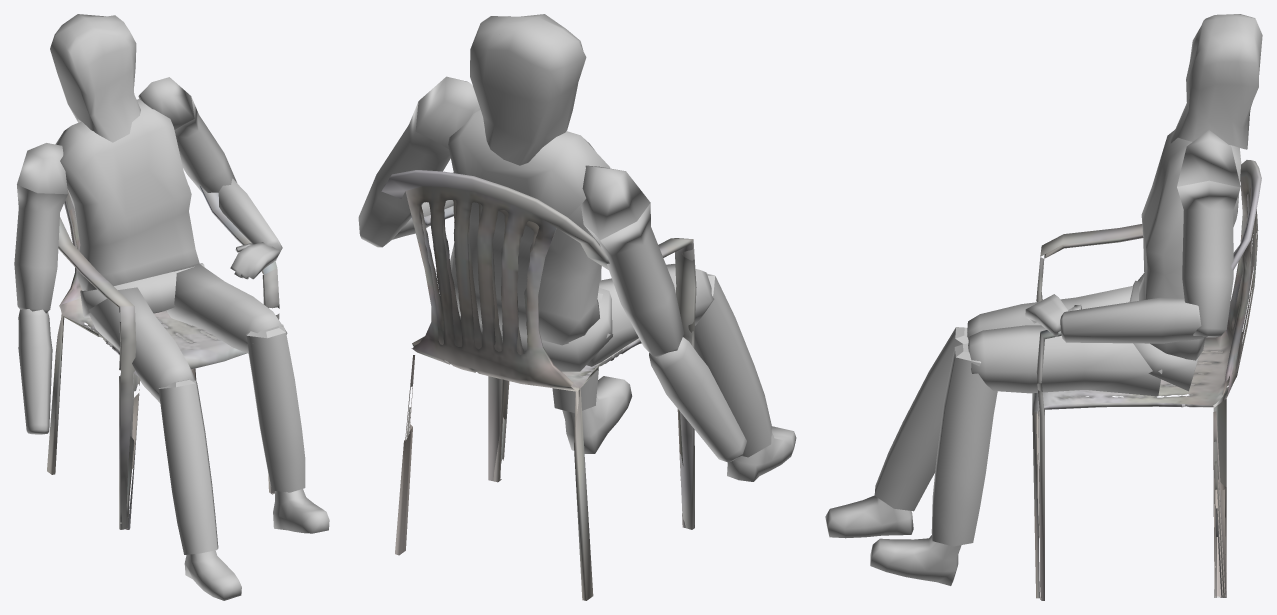
File: torture_victim.FBX
3 views of the same model, side by side, from view 1: azimuth 30°, elevation 25°; view 2: azimuth 150°, elevation 25°; view 3: azimuth 270°, elevation 25° (orthographic). The views are drawn at different scales.
Parts seen in each view (by area): view 1: victim_torso, lawn_chair, burlap_sack, victim_right_bicep, victim_right_leg, victim_left_leg, victim_left_femur, victim_right_femur, victim_left_bicep, victim_right_forearm, victim_left_forearm, victim_l_foot (+3 smaller); view 2: lawn_chair, victim_torso, burlap_sack, victim_right_bicep, victim_left_bicep, victim_right_leg, victim_right_forearm, victim_l_foot, victim_pelvis, victim_right_femur, victim_r_foot, victim_left_leg; view 3: lawn_chair, victim_left_bicep, victim_left_femur, victim_left_leg, burlap_sack, victim_torso, victim_right_leg, victim_left_forearm, victim_l_foot, victim_r_foot, victim_right_femur, victim_pelvis (+1 smaller).
Boxes of the visible parts, bbox=[...] form: victim_torso: bbox=[55, 99, 199, 290]; lawn_chair: bbox=[47, 185, 279, 529]; burlap_sack: bbox=[50, 14, 140, 142]; victim_right_bicep: bbox=[14, 143, 67, 313]; victim_right_leg: bbox=[158, 379, 218, 554]; victim_left_leg: bbox=[246, 324, 305, 492]; victim_left_femur: bbox=[166, 263, 287, 353]; victim_right_femur: bbox=[86, 287, 195, 402]; victim_left_bicep: bbox=[138, 77, 236, 192]; victim_right_forearm: bbox=[18, 309, 52, 434]; victim_left_forearm: bbox=[218, 178, 282, 257]; victim_l_foot: bbox=[273, 489, 329, 533]; lawn_chair: bbox=[381, 170, 696, 600]; victim_torso: bbox=[448, 109, 610, 345]; burlap_sack: bbox=[470, 14, 586, 165]; victim_right_bicep: bbox=[581, 165, 684, 357]; victim_left_bicep: bbox=[358, 76, 480, 247]; victim_right_leg: bbox=[694, 273, 771, 457]; victim_right_forearm: bbox=[649, 337, 746, 462]; victim_l_foot: bbox=[562, 376, 632, 453]; victim_pelvis: bbox=[459, 287, 612, 371]; victim_right_femur: bbox=[586, 264, 714, 366]; victim_r_foot: bbox=[727, 426, 796, 481]; victim_left_leg: bbox=[552, 271, 601, 412]; lawn_chair: bbox=[1032, 160, 1261, 600]; victim_left_bicep: bbox=[1177, 130, 1240, 337]; victim_left_femur: bbox=[968, 325, 1162, 396]; victim_left_leg: bbox=[931, 343, 997, 546]; burlap_sack: bbox=[1170, 14, 1262, 149]; victim_torso: bbox=[1139, 129, 1241, 360]; victim_right_leg: bbox=[874, 327, 968, 511]; victim_left_forearm: bbox=[1060, 297, 1207, 343]; victim_l_foot: bbox=[870, 535, 961, 585]; victim_r_foot: bbox=[825, 495, 913, 538]; victim_right_femur: bbox=[967, 286, 1132, 340]; victim_pelvis: bbox=[1129, 280, 1198, 391].
Bounding box in the file's own units: 44.1 × 74.16 × 55.43.
